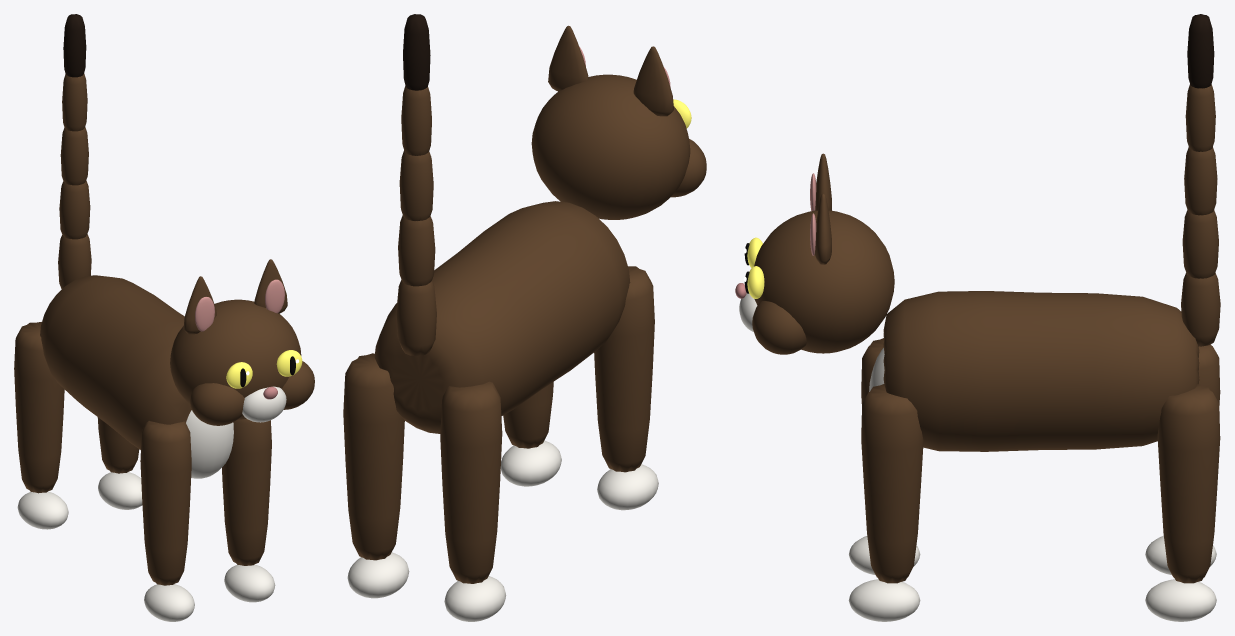
File: rocky-DKkb6hjx.glb
3 renders of one model, left to right at view 1: azimuth 30°, elevation 25°; view 2: azimuth 150°, elevation 25°; view 3: azimuth 270°, elevation 25°, orthographic. The views are drawn at different scales.
Parts seen in each view (by area): view 1: rocky_body_TEX_classic, rocky_head_TEX_classic, rocky_leg0_TEX_classic, rocky_leg2_TEX_classic, rocky_leg1_TEX_classic, rocky_body_white_fur, rocky_tail1_TEX_classic, rocky_leg2_white_fur, rocky_leg0_white_fur, rocky_leg1_white_fur, rocky_tail2_TEX_classic, rocky_leg3_TEX_classic (+7 smaller); view 2: rocky_body_TEX_classic, rocky_head_TEX_classic, rocky_leg2_TEX_classic, rocky_leg3_TEX_classic, rocky_leg0_TEX_classic, rocky_tail0_TEX_classic, rocky_tail1_TEX_classic, rocky_leg1_TEX_classic, rocky_tail2_TEX_classic, rocky_leg0_white_fur, rocky_leg1_white_fur, rocky_leg3_white_fur (+3 smaller); view 3: rocky_body_TEX_classic, rocky_head_TEX_classic, rocky_leg3_TEX_classic, rocky_leg1_TEX_classic, rocky_leg3_white_fur, rocky_leg1_white_fur, rocky_tail0_TEX_classic, rocky_tail1_TEX_classic, rocky_tail2_TEX_classic, rocky_tail3_TEX_classic, rocky_tail4_rocky_dark, rocky_leg2_TEX_classic (+4 smaller).
Boxes of the visible parts, left/top/right/bottom form: rocky_body_TEX_classic: left=40, top=275, right=191, bottom=449; rocky_head_TEX_classic: left=170, top=259, right=314, bottom=425; rocky_leg0_TEX_classic: left=140, top=420, right=191, bottom=585; rocky_leg2_TEX_classic: left=14, top=322, right=64, bottom=493; rocky_leg1_TEX_classic: left=222, top=418, right=271, bottom=565; rocky_body_white_fur: left=186, top=410, right=233, bottom=478; rocky_tail1_TEX_classic: left=59, top=180, right=90, bottom=239; rocky_leg2_white_fur: left=17, top=491, right=68, bottom=529; rocky_leg0_white_fur: left=144, top=584, right=194, bottom=621; rocky_leg1_white_fur: left=224, top=564, right=275, bottom=602; rocky_tail2_TEX_classic: left=60, top=127, right=88, bottom=185; rocky_leg3_TEX_classic: left=97, top=417, right=139, bottom=473; rocky_body_TEX_classic: left=374, top=201, right=630, bottom=433; rocky_head_TEX_classic: left=531, top=25, right=706, bottom=219; rocky_leg2_TEX_classic: left=440, top=381, right=502, bottom=583; rocky_leg3_TEX_classic: left=343, top=353, right=404, bottom=560; rocky_leg0_TEX_classic: left=594, top=266, right=654, bottom=472; rocky_tail0_TEX_classic: left=396, top=280, right=436, bottom=356; rocky_tail1_TEX_classic: left=398, top=215, right=435, bottom=286; rocky_leg1_TEX_classic: left=503, top=382, right=553, bottom=448; rocky_tail2_TEX_classic: left=399, top=150, right=433, bottom=220; rocky_leg0_white_fur: left=597, top=464, right=658, bottom=510; rocky_leg1_white_fur: left=500, top=440, right=561, bottom=486; rocky_leg3_white_fur: left=347, top=552, right=409, bottom=598; rocky_body_TEX_classic: left=883, top=291, right=1199, bottom=451; rocky_head_TEX_classic: left=752, top=153, right=894, bottom=354; rocky_leg3_TEX_classic: left=1157, top=384, right=1220, bottom=583; rocky_leg1_TEX_classic: left=861, top=384, right=923, bottom=583; rocky_leg3_white_fur: left=1145, top=579, right=1216, bottom=621; rocky_leg1_white_fur: left=848, top=579, right=920, bottom=621; rocky_tail0_TEX_classic: left=1181, top=273, right=1220, bottom=346; rocky_tail1_TEX_classic: left=1182, top=210, right=1218, bottom=278; rocky_tail2_TEX_classic: left=1184, top=147, right=1217, bottom=215; rocky_tail3_TEX_classic: left=1185, top=84, right=1215, bottom=151; rocky_tail4_rocky_dark: left=1187, top=14, right=1214, bottom=88; rocky_leg2_TEX_classic: left=1198, top=344, right=1220, bottom=405.
Size of the model in its own units: 0.1705 by 0.6485 by 0.4911.
